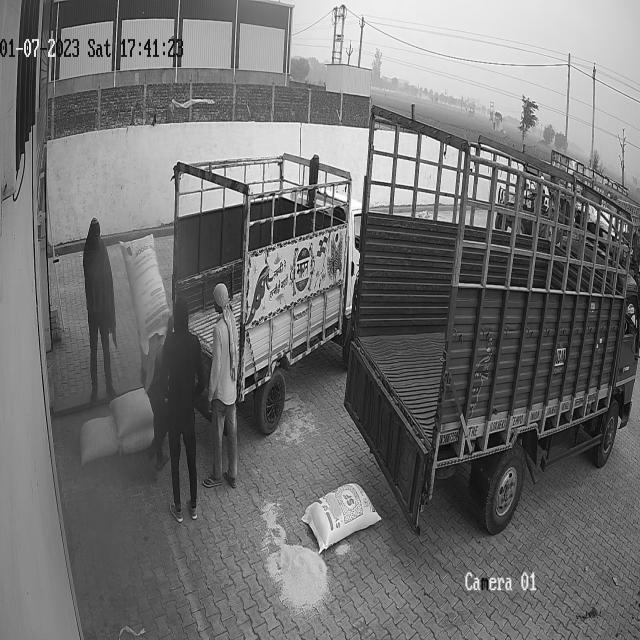sack: (119, 233, 169, 354), (300, 483, 380, 551), (110, 388, 153, 436), (79, 416, 118, 464), (121, 429, 155, 452)
